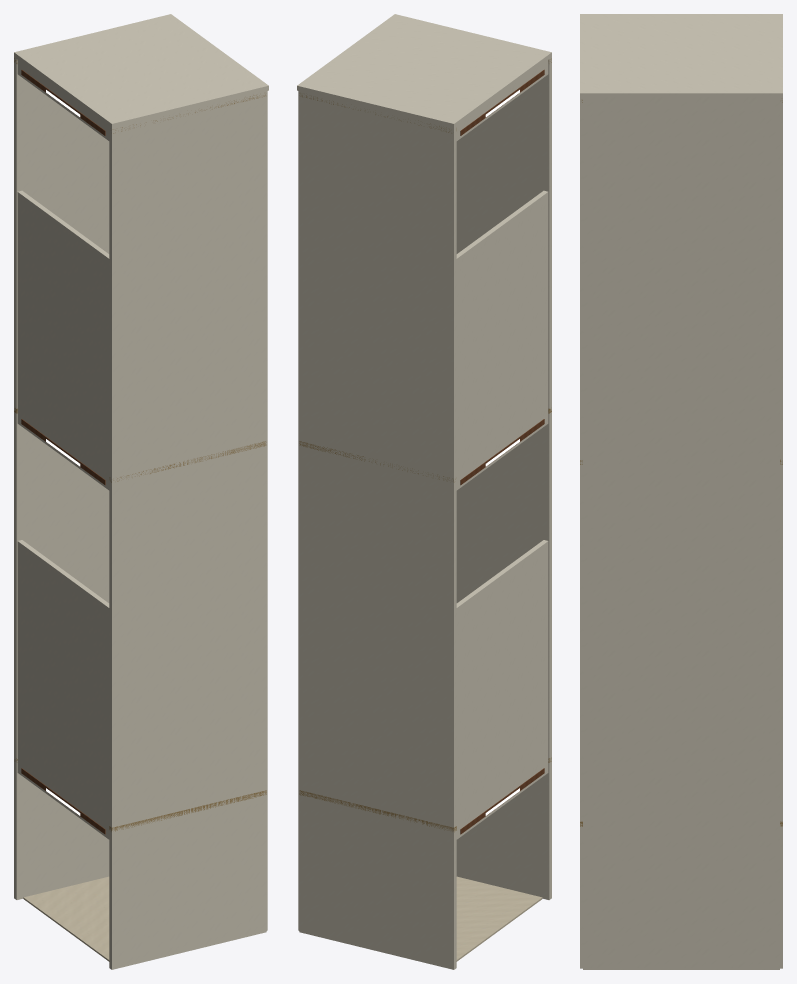
Rendered from AST-CIR-004.glb.
3 views of the same model, side by side, from view 1: azimuth 30°, elevation 25°; view 2: azimuth 150°, elevation 25°; view 3: azimuth 270°, elevation 25° (orthographic). The views are drawn at different scales.
Visible parts, largest first — view 1: AQU_Lift_ivory_enamel, AQU_Lift_warm_stone, AQU_Lift_champagne_metal, AQU_Lift_warm_walnut; view 2: AQU_Lift_ivory_enamel, AQU_Lift_warm_stone, AQU_Lift_warm_walnut, AQU_Lift_champagne_metal; view 3: AQU_Lift_ivory_enamel.
Boxes of the visible parts, <box> form: AQU_Lift_ivory_enamel: <box>14,14,268,969</box>; AQU_Lift_warm_stone: <box>23,876,109,961</box>; AQU_Lift_champagne_metal: <box>14,58,266,831</box>; AQU_Lift_warm_walnut: <box>21,69,105,834</box>; AQU_Lift_ivory_enamel: <box>297,14,551,969</box>; AQU_Lift_warm_stone: <box>456,876,542,961</box>; AQU_Lift_warm_walnut: <box>460,69,544,834</box>; AQU_Lift_champagne_metal: <box>299,58,551,832</box>; AQU_Lift_ivory_enamel: <box>580,14,782,969</box>.
Size of the model in its own units: 4 by 20.59 by 4.32.
5 materials, 4 textured.
